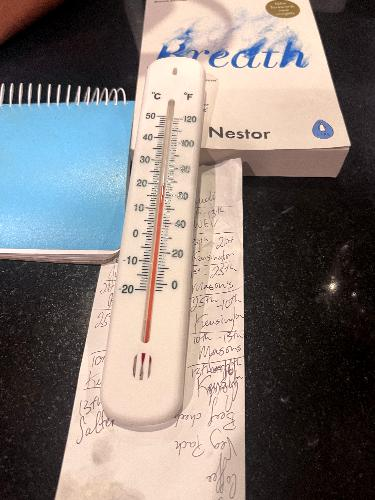thermo: (97, 51, 234, 432)
